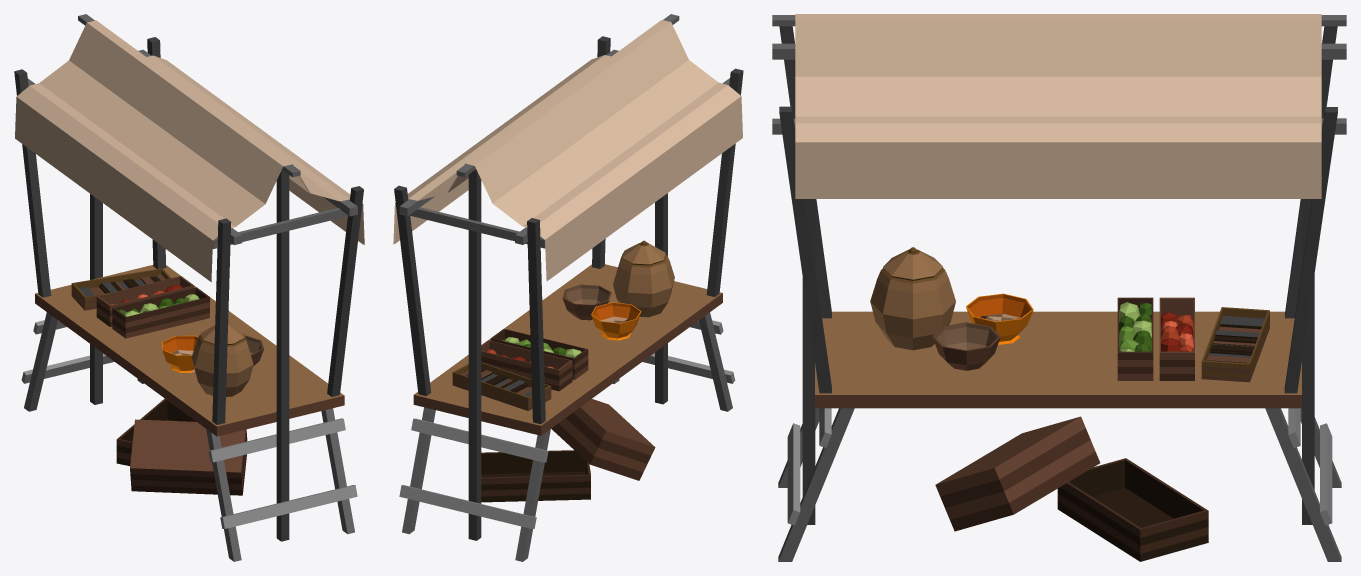
The model's file is stragan2.fbx.
3 views of the same model, side by side, from view 1: azimuth 30°, elevation 25°; view 2: azimuth 150°, elevation 25°; view 3: azimuth 270°, elevation 25° (orthographic). The views are drawn at different scales.
Parts seen in each view (by area): view 1: Plane.007; view 2: Plane.007; view 3: Plane.007.
Part boxes in pixels (left/top/right/bottom): Plane.007: left=14, top=14, right=364, bottom=561; Plane.007: left=393, top=14, right=743, bottom=561; Plane.007: left=772, top=14, right=1346, bottom=561.
Size of the model in its own units: 88.54 by 208 by 215.
